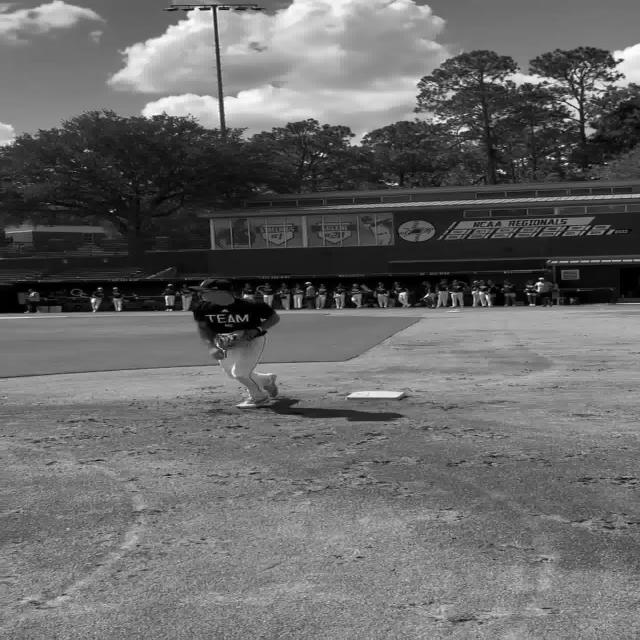base: (347, 391, 407, 400)
baseball_glove: (213, 330, 256, 350)
shoe: (260, 374, 278, 398), (236, 399, 269, 409)
